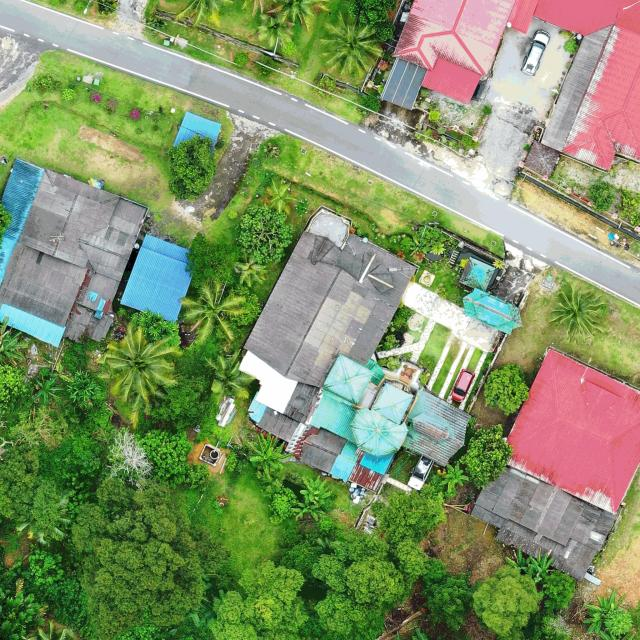0: (100, 324, 179, 409), (179, 279, 245, 344), (319, 10, 382, 78), (547, 282, 609, 341), (204, 351, 258, 402), (244, 431, 295, 481), (264, 179, 299, 214), (235, 258, 268, 287)
banana_tree2: (582, 590, 624, 634), (0, 315, 29, 366), (438, 460, 471, 498), (27, 376, 63, 404), (528, 547, 556, 582), (300, 475, 332, 504), (292, 494, 326, 521), (505, 549, 531, 572)
tree: (71, 475, 205, 637), (310, 528, 426, 605), (471, 565, 544, 638), (369, 480, 449, 545), (241, 561, 311, 632), (236, 198, 295, 265), (420, 557, 472, 630), (165, 131, 218, 202), (460, 423, 514, 491), (314, 589, 386, 640), (137, 426, 193, 484), (186, 230, 243, 282), (482, 362, 530, 416), (226, 282, 263, 327), (542, 569, 576, 609), (266, 486, 298, 526), (588, 179, 618, 213), (616, 187, 640, 228)
